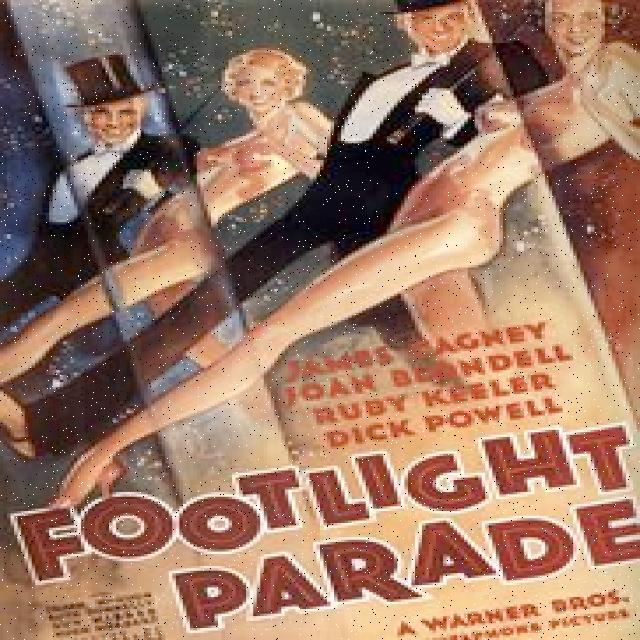movie-judul: (12, 422, 640, 634)
picture: (0, 0, 640, 430)
